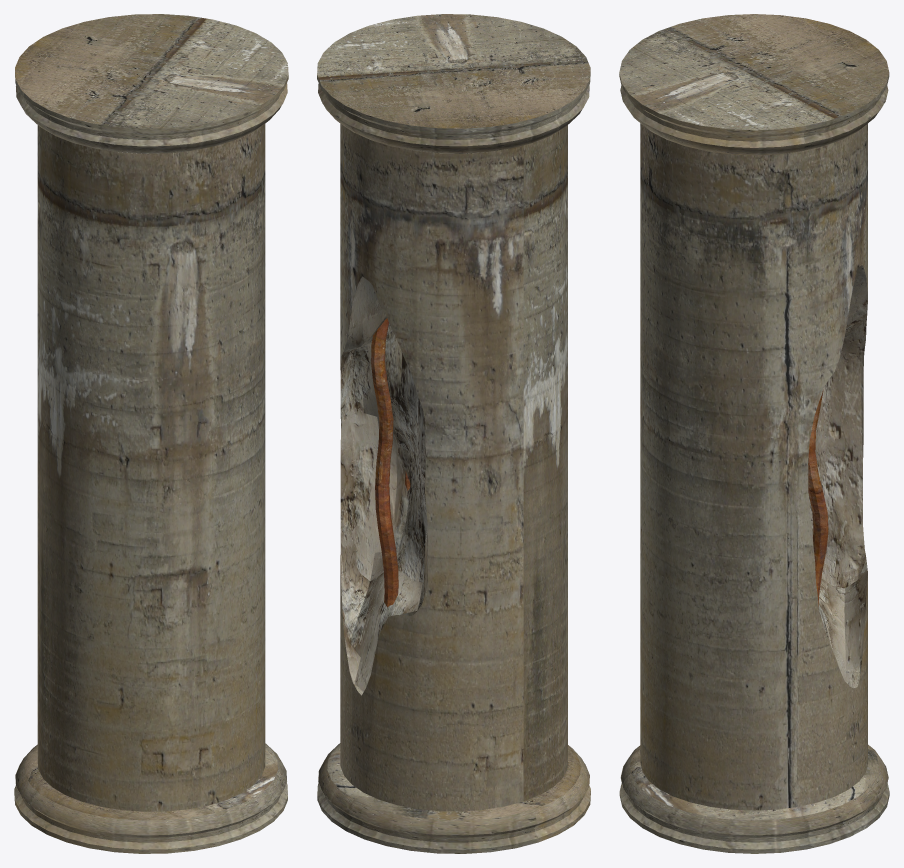
The model's file is pillar1.fbx.
The picture shows the model from 3 angles, left to right: view 1: azimuth 30°, elevation 25°; view 2: azimuth 150°, elevation 25°; view 3: azimuth 270°, elevation 25°; orthographic projection.
Parts seen in each view (by area): view 1: Pillar; view 2: Pillar, Rods.005; view 3: Pillar, Rods.005.
Boxes of the visible parts, left/top/right/bottom form: Pillar: left=14, top=14, right=288, bottom=853; Pillar: left=317, top=14, right=590, bottom=853; Rods.005: left=371, top=318, right=398, bottom=607; Pillar: left=619, top=14, right=889, bottom=853; Rods.005: left=808, top=389, right=828, bottom=606.
Bounding box in the file's own units: 242 × 702 × 237.
